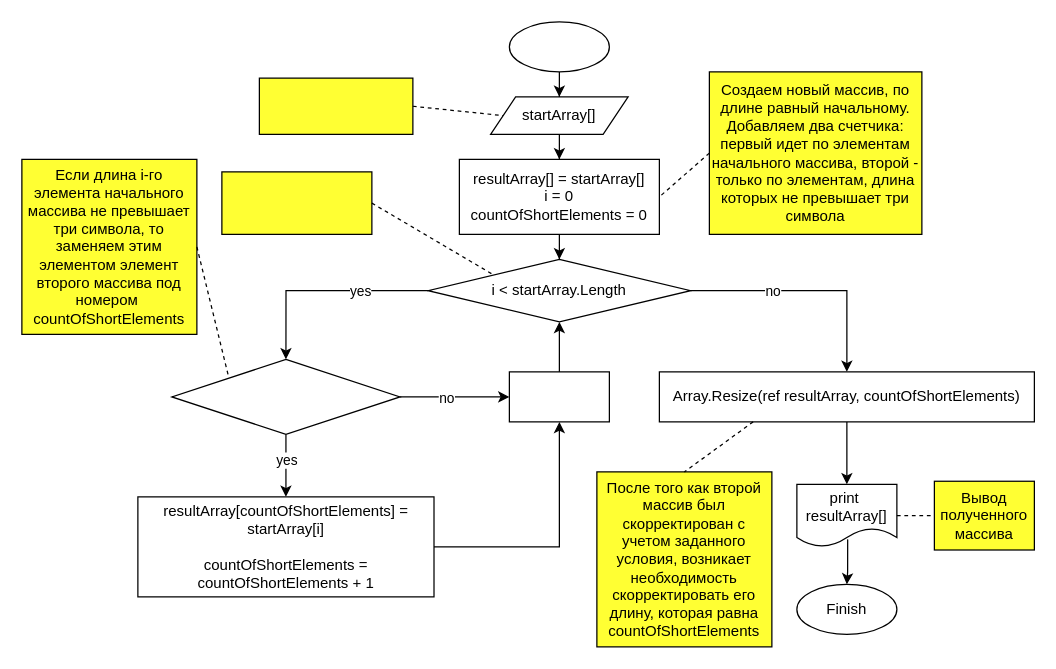
Image size: 1056x669. Some labels were removed from this diagram. The box of each missing label's shape, as (x1, y1, x2, y2) in pixels:
i = i + 1: (508, 371, 609, 422)
Start: (508, 21, 609, 72)
startArray[i].Length <= 3: (171, 358, 400, 434)
Вводим начальный массив строк: (258, 77, 413, 134)
Проходим полностью по первому массиву: (221, 171, 372, 234)
